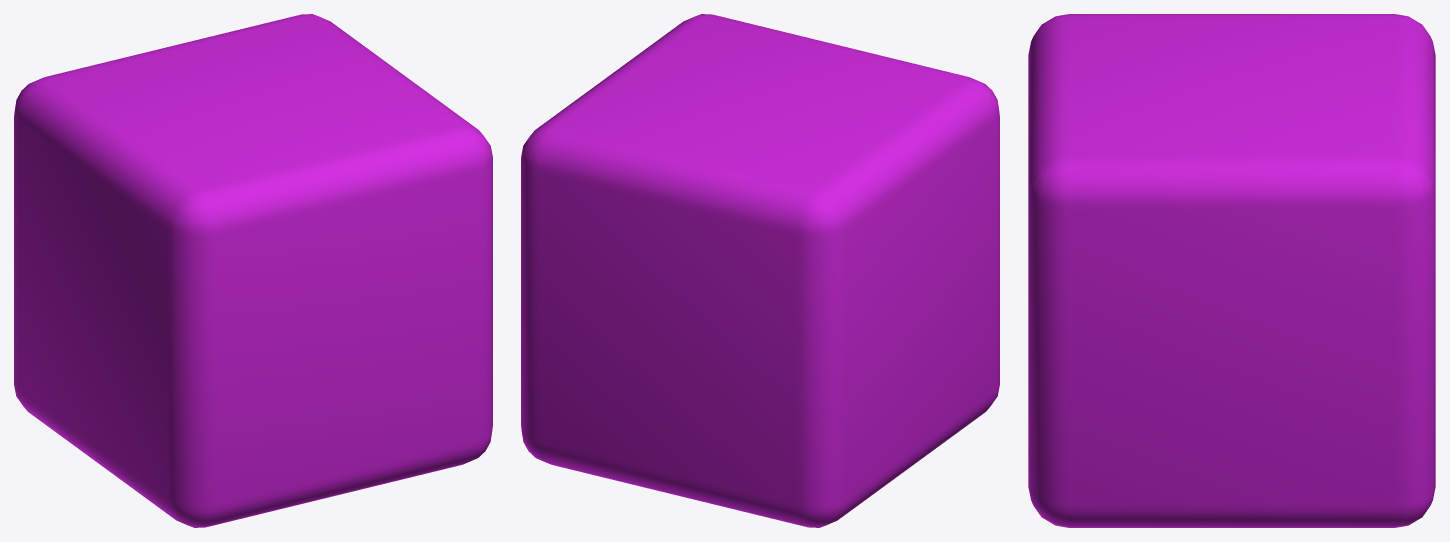
File: Roundcube.gltf
The picture shows the model from 3 angles, left to right: view 1: azimuth 30°, elevation 25°; view 2: azimuth 150°, elevation 25°; view 3: azimuth 270°, elevation 25°; orthographic projection. The views are drawn at different scales.
Visible parts, largest first — view 1: Roundcube; view 2: Roundcube; view 3: Roundcube.
Part boxes in pixels (x1,y1,x2,y2): Roundcube: (14,14,492,527); Roundcube: (521,14,999,527); Roundcube: (1028,14,1435,527).
Size of the model in its own units: 2 by 2 by 2.
